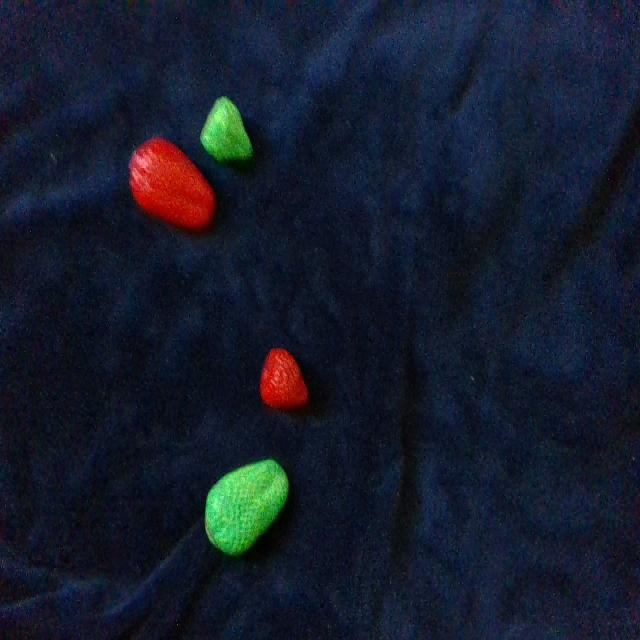chica_roja: (260, 349, 308, 409)
grande_roja: (129, 137, 215, 229)
verde: (206, 460, 288, 555), (200, 99, 252, 163)
